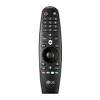remote control: (37, 8, 63, 96)
